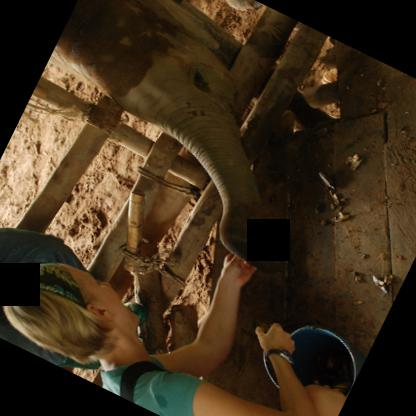handbag: (120, 360, 169, 404)
